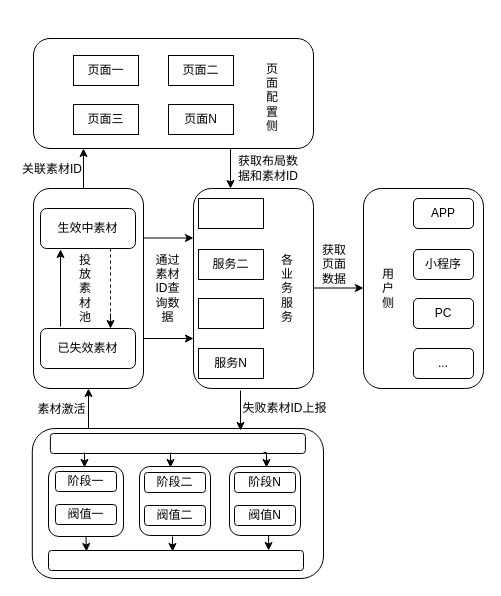
The diagram is 501 pixels wide and 596 high, and some of its shapes have lost their labels. Here are the shapes that lost their labels. From the top down, the centre of each, then its label:
At [231,213]: "服务一".
At [231,313]: "服务三".
At [177,443]: "失败活素材ID池".
At [176,560]: "待激活素材ID池".
